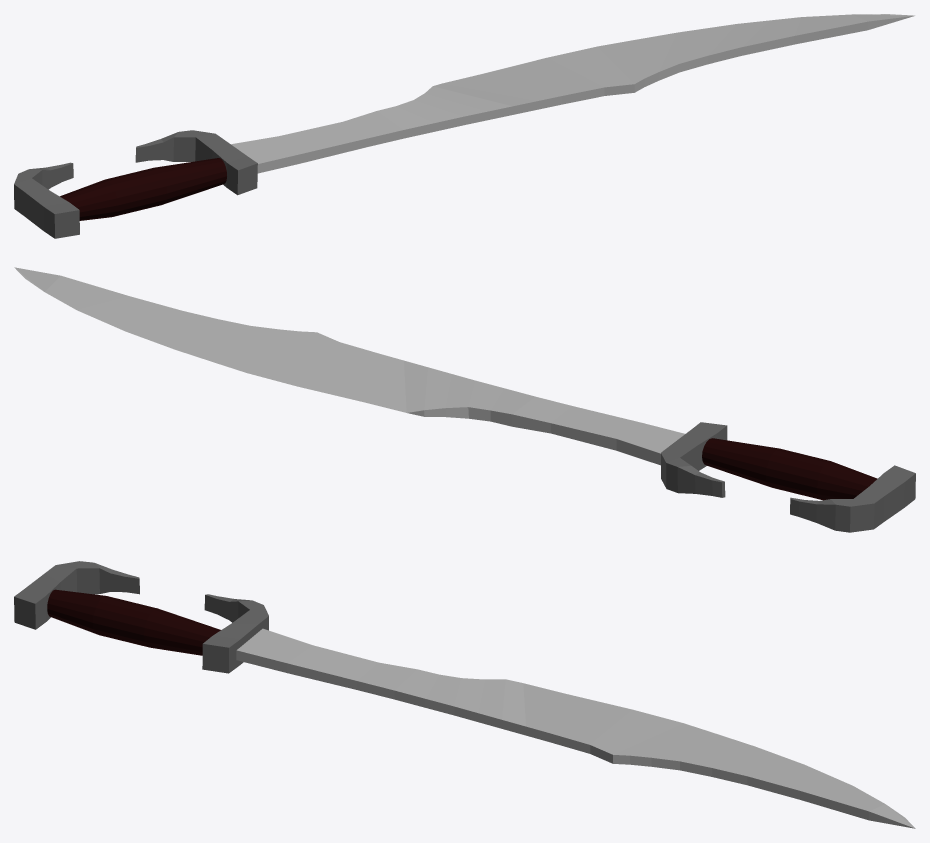
The model's file is SM_CurvedSword.fbx.
3 views of the same model, one above another, from view 1: azimuth 30°, elevation 25°; view 2: azimuth 150°, elevation 25°; view 3: azimuth 330°, elevation 25° (orthographic). The views are drawn at different scales.
Visible parts, largest first — view 1: CurvedSword; view 2: CurvedSword; view 3: CurvedSword.
Part boxes in pixels (x1,y1,x2,y2): CurvedSword: (14,14,914,238); CurvedSword: (14,267,915,532); CurvedSword: (14,561,915,828).
Size of the model in its own units: 95.12 by 3.67 by 10.71.
